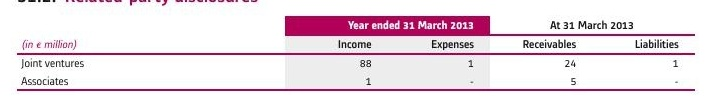table: (0, 0, 709, 110)
